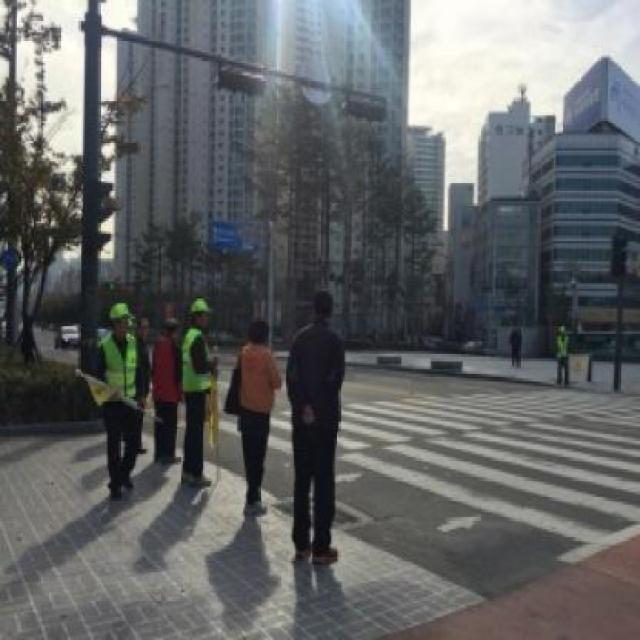Person: (290, 294, 342, 566), (97, 298, 148, 500), (233, 314, 276, 517), (181, 298, 217, 490), (152, 320, 182, 462), (557, 324, 571, 385), (508, 323, 523, 375)
